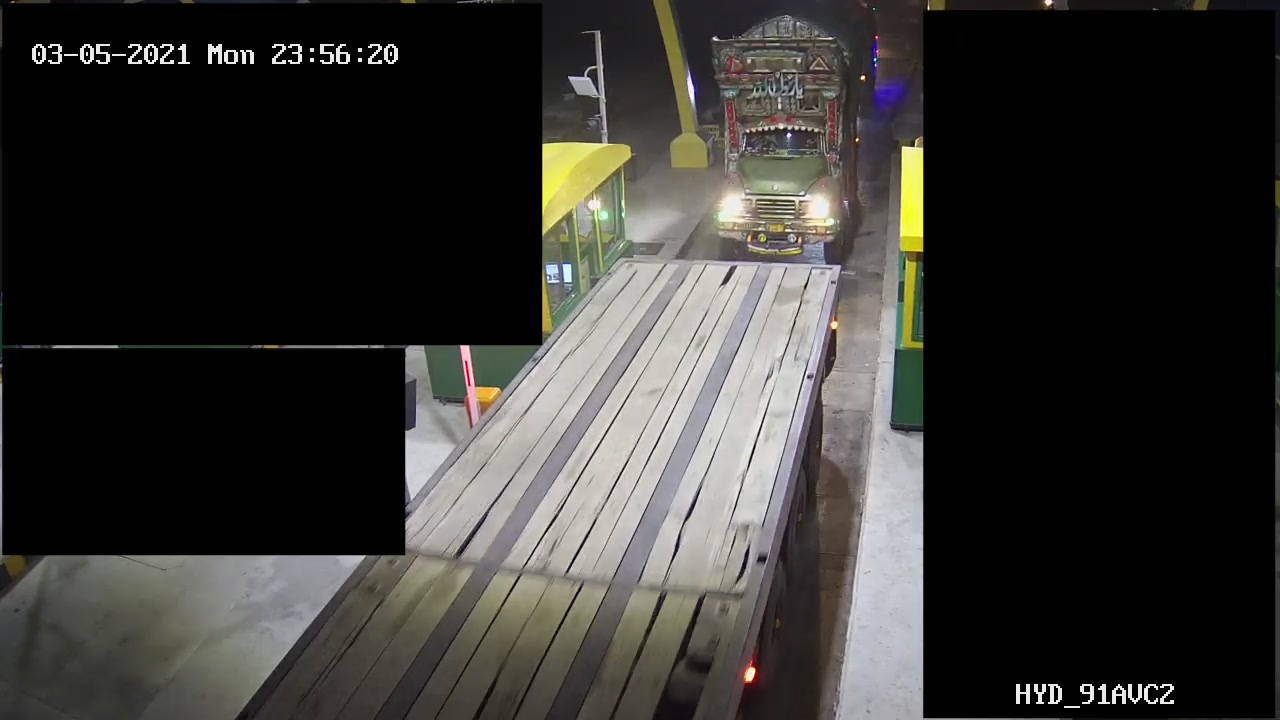F5: (713, 4, 866, 257)
